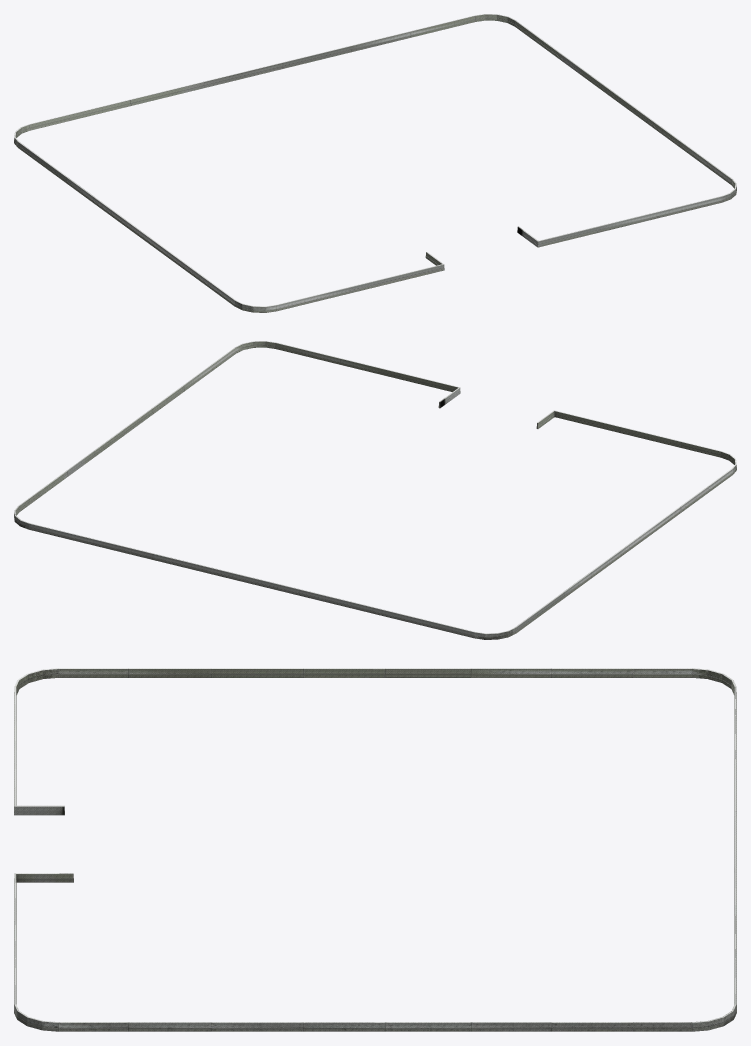
Rendered from fenceTexture.glb.
3 renders of one model, top to bottom at view 1: azimuth 30°, elevation 25°; view 2: azimuth 150°, elevation 25°; view 3: azimuth 270°, elevation 25°, orthographic. The views are drawn at different scales.
Parts seen in each view (by area): view 1: 围墙; view 2: 围墙; view 3: 围墙.
Boxes of the visible parts, x1,y1,x2,y2 form: 围墙: [14, 14, 736, 312]; 围墙: [14, 341, 736, 639]; 围墙: [14, 668, 736, 1031].
Bounding box in the file's own units: 352 × 4 × 303.
1 material, 1 textured.
